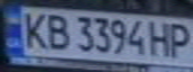3: (69, 14, 97, 53), (90, 15, 112, 54)
4: (127, 17, 151, 56)
9: (109, 16, 130, 55)
B: (42, 11, 72, 52)
H: (148, 19, 175, 57)
K: (18, 9, 51, 51)
P: (166, 20, 193, 60)
